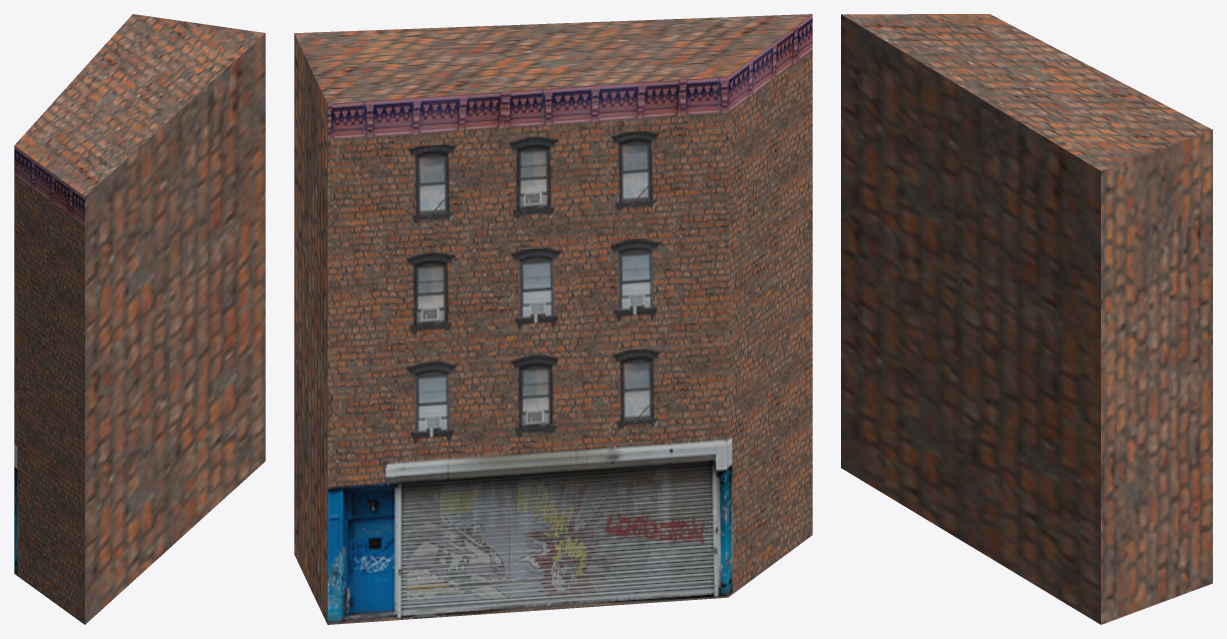
The model's file is building8fbx.fbx.
3 renders of one model, left to right at view 1: azimuth 30°, elevation 25°; view 2: azimuth 150°, elevation 25°; view 3: azimuth 270°, elevation 25°, orthographic. The views are drawn at different scales.
Parts seen in each view (by area): view 1: Cube.070; view 2: Cube.070; view 3: Cube.070.
Part boxes in pixels (x1,y1,x2,y2): Cube.070: (14, 14, 265, 624); Cube.070: (294, 14, 812, 624); Cube.070: (841, 14, 1212, 624).
Bounding box in the file's own units: 1204 × 1620 × 1203.
